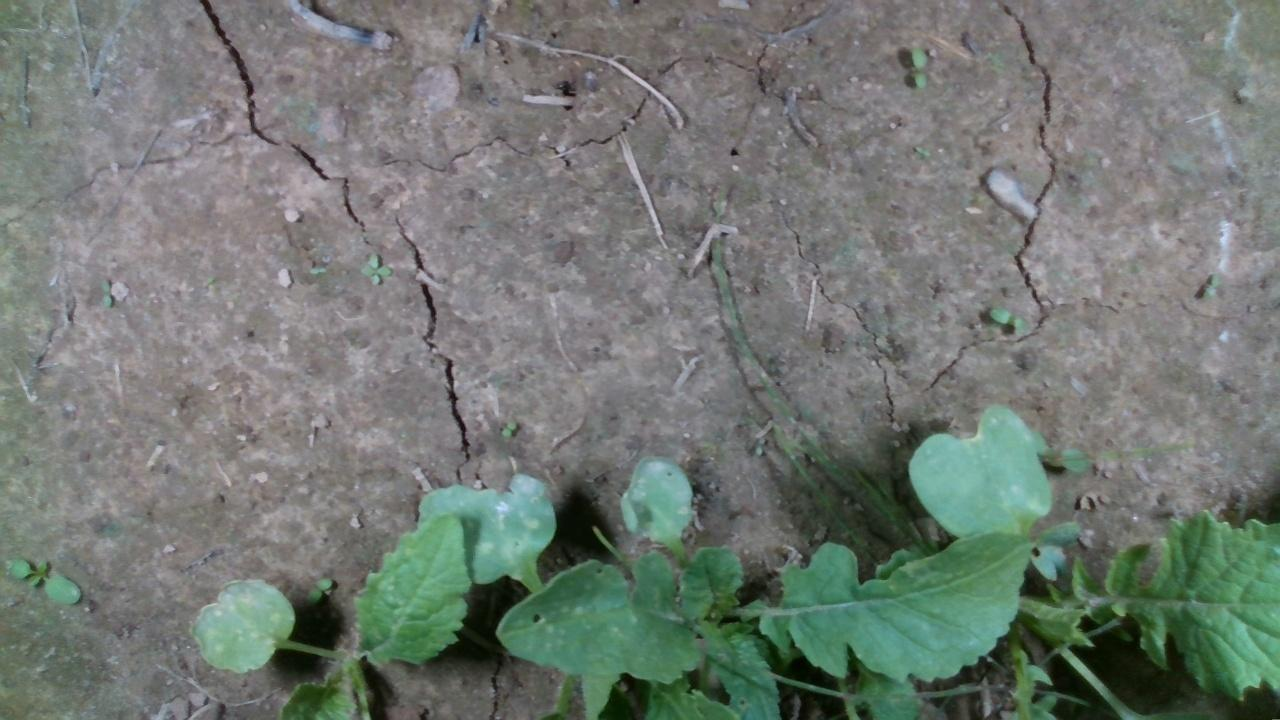weed: (5, 557, 80, 605), (357, 248, 391, 286), (987, 305, 1027, 330), (911, 45, 931, 89), (307, 575, 333, 602), (1200, 272, 1218, 299), (499, 417, 517, 438)
